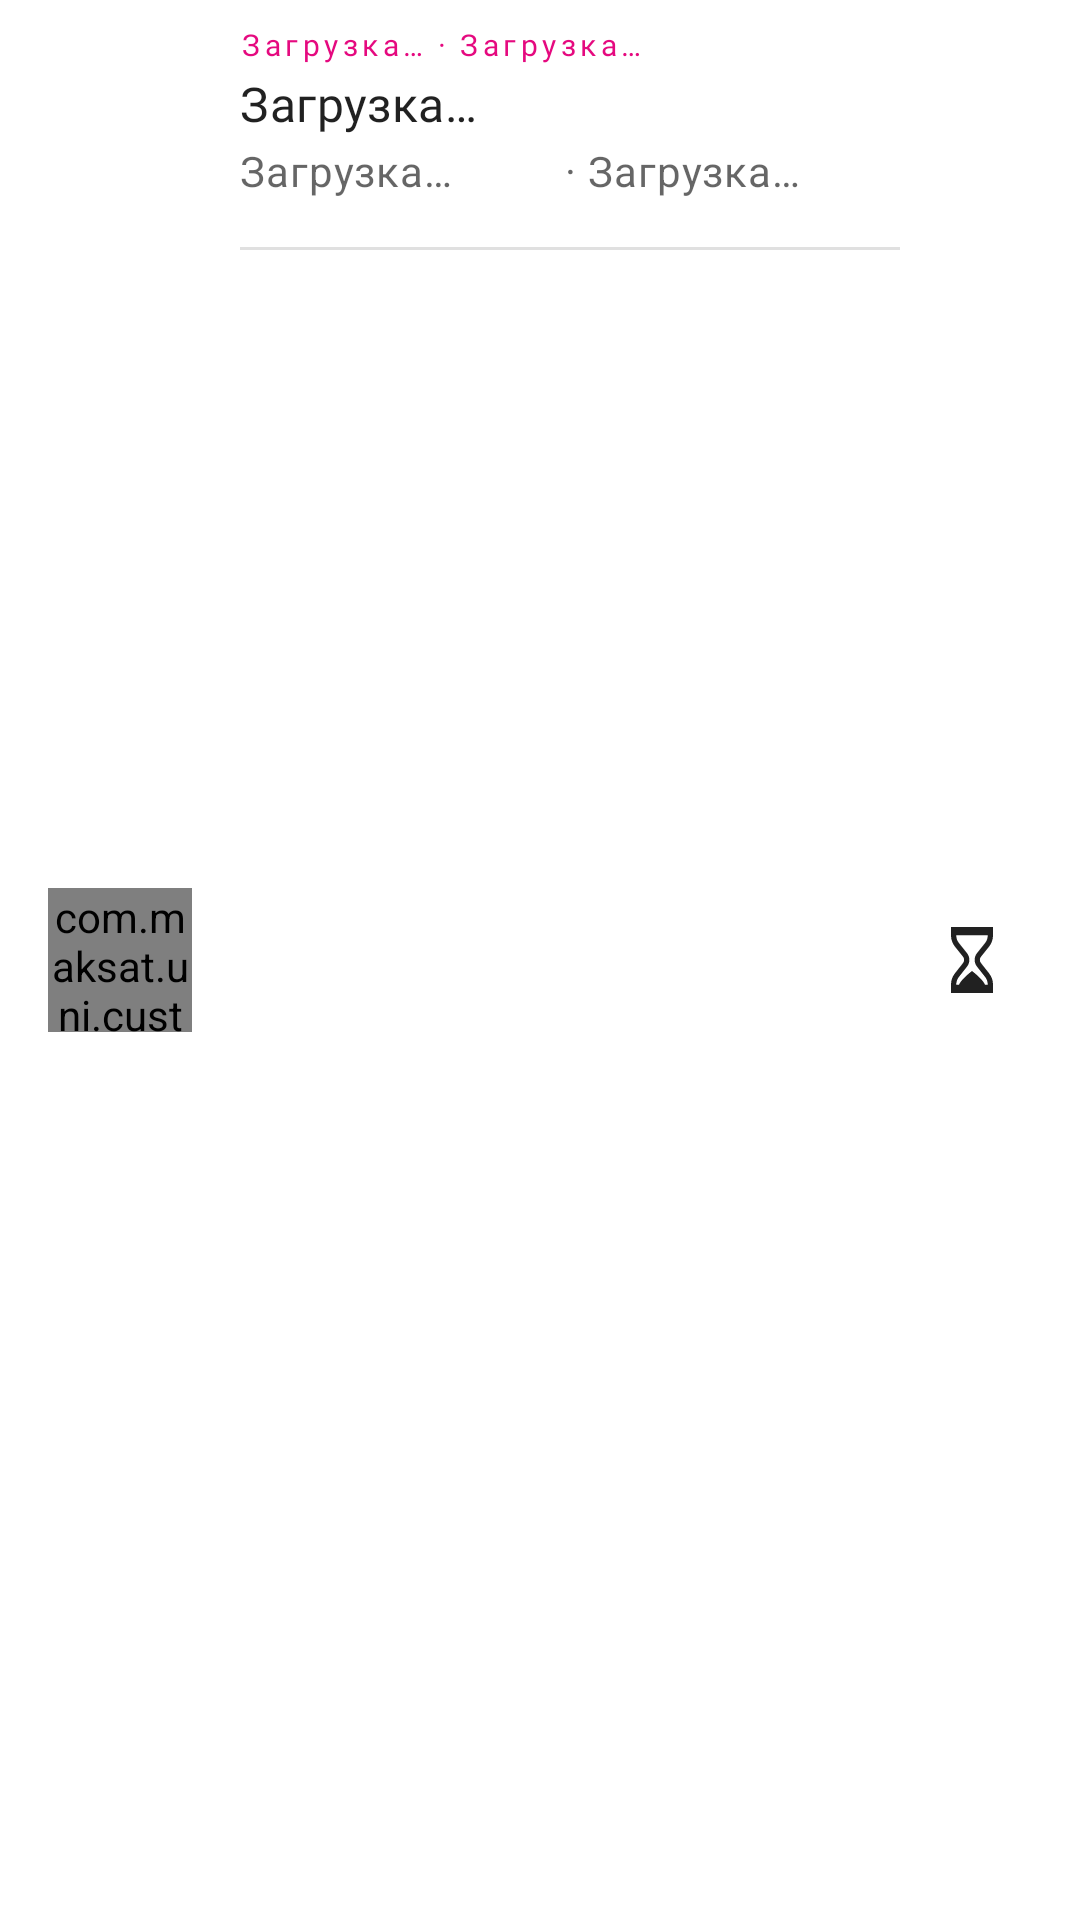

Screen size 1080px x 1920px. Icon name, then its center in pixels as (x=x, y=y):
wait: (x=972, y=960)
